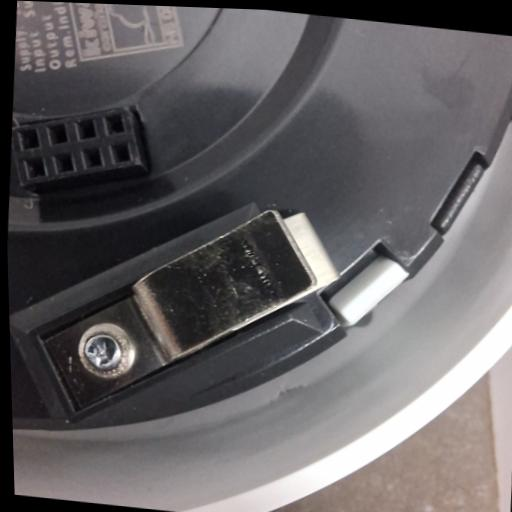yayli: (19, 182, 348, 449)
